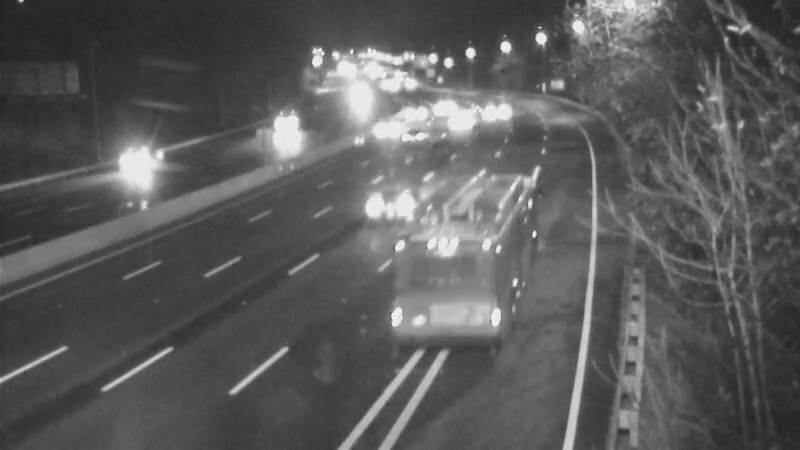vehicle: (339, 165, 419, 245), (415, 206, 495, 286), (94, 128, 174, 208), (473, 84, 523, 134), (390, 85, 440, 135), (434, 95, 484, 145), (356, 96, 406, 146), (390, 112, 440, 162), (261, 102, 311, 152)
